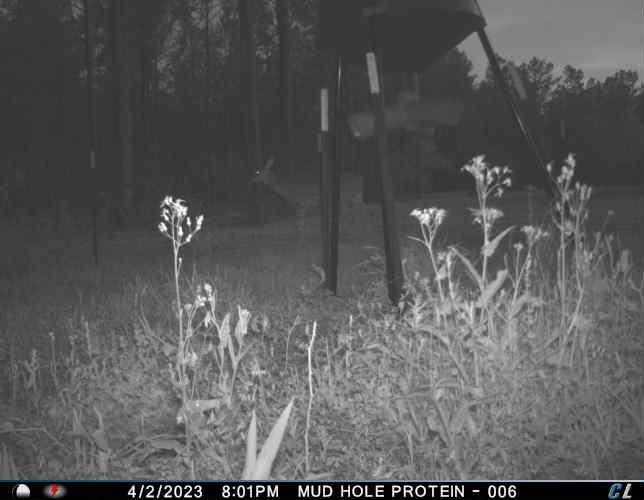Deer: (249, 154, 377, 251)
